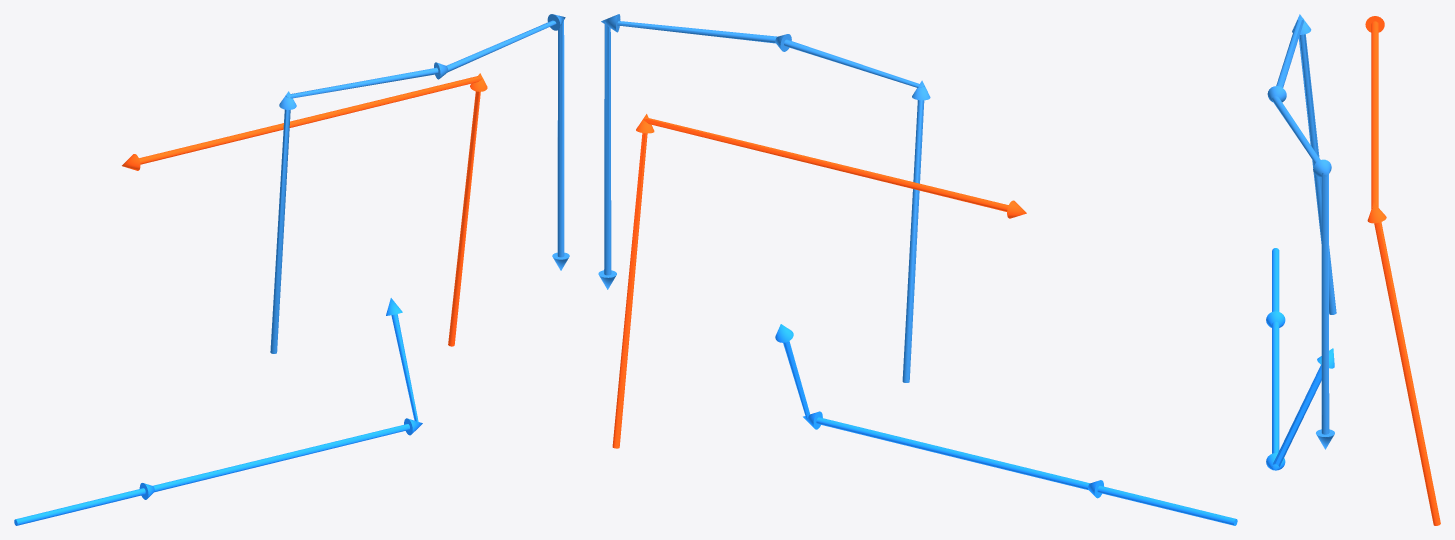
Rendered from ultrafiltration_system_flow.glb.
3 views of the same model, side by side, from view 1: azimuth 30°, elevation 25°; view 2: azimuth 150°, elevation 25°; view 3: azimuth 270°, elevation 25° (orthographic). The views are drawn at different scales.
Visible parts, largest first — view 1: filtrate, backwash, feed; view 2: filtrate, backwash, feed; view 3: filtrate, backwash, feed.
Part boxes in pixels (x1,y1,x2,y2): filtrate: (270, 14, 569, 353); backwash: (122, 73, 487, 346); feed: (14, 298, 422, 525); filtrate: (598, 14, 930, 382); backwash: (612, 114, 1026, 448); feed: (775, 324, 1237, 525); filtrate: (1267, 14, 1336, 449); backwash: (1365, 16, 1440, 525); feed: (1266, 248, 1334, 470).
Bounding box in the file's own units: 2.94 × 1.78 × 0.7038.
